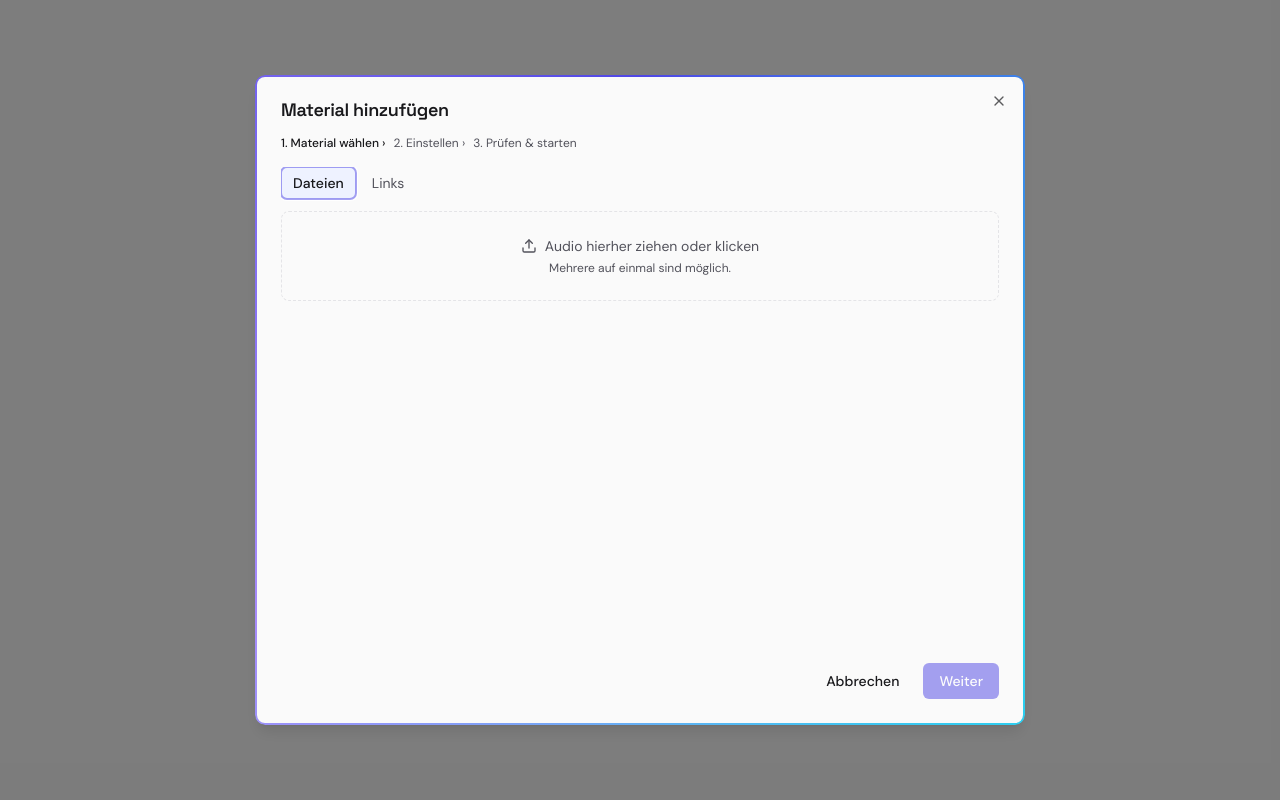
Test: MaterialDialog › Reiterleiste nach dem APG-Muster (#304) › laesst die Maus unveraendert
Click the tab "Links". click: [388, 183]
box: left=360, top=167, right=416, bottom=199
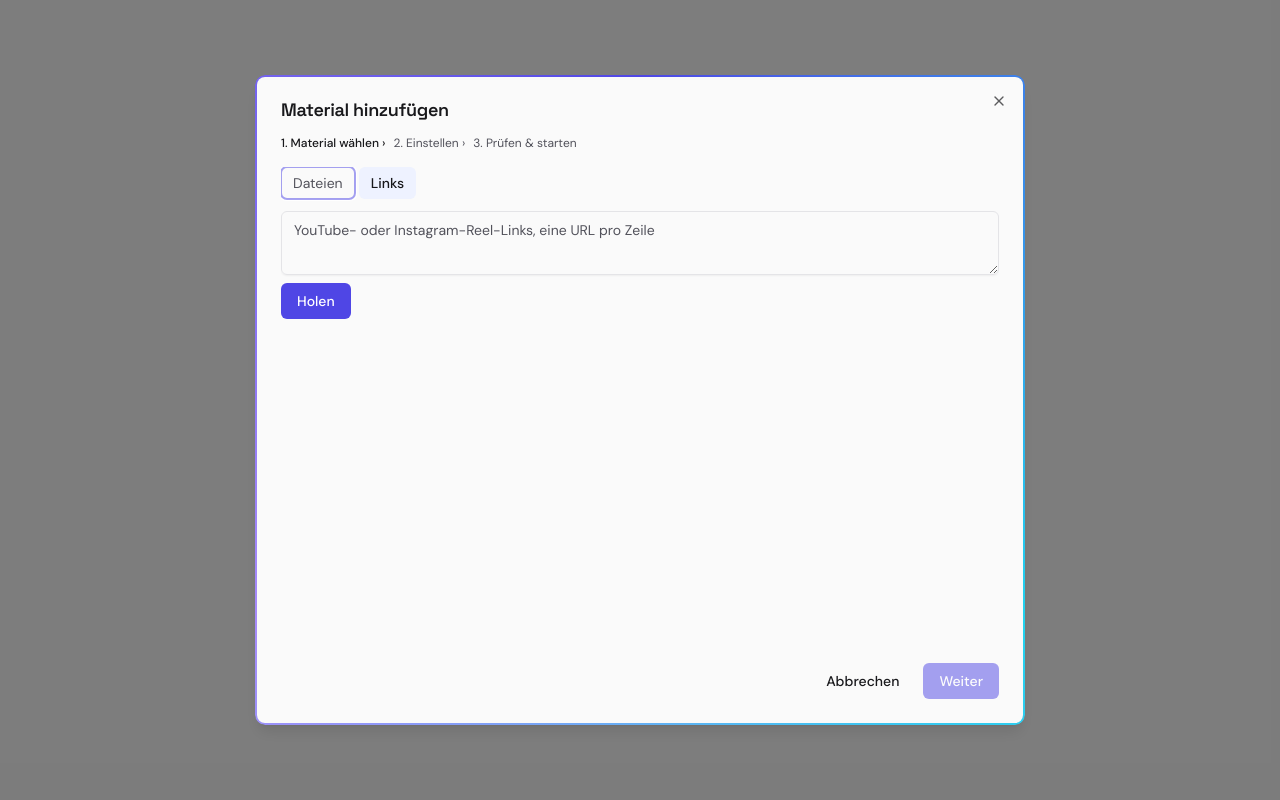
Result: the text box named "Video-URLs" is shown at left=281, top=211, right=999, bottom=275
